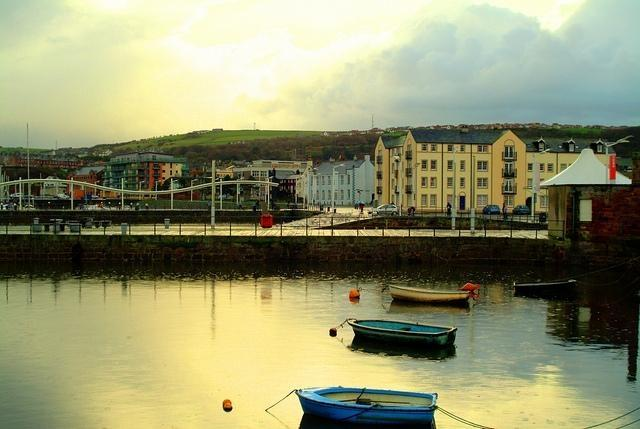car: (369, 204, 402, 217), (481, 203, 502, 214), (512, 204, 530, 214), (24, 194, 36, 202), (10, 192, 23, 198), (58, 194, 70, 200), (92, 195, 100, 199)
